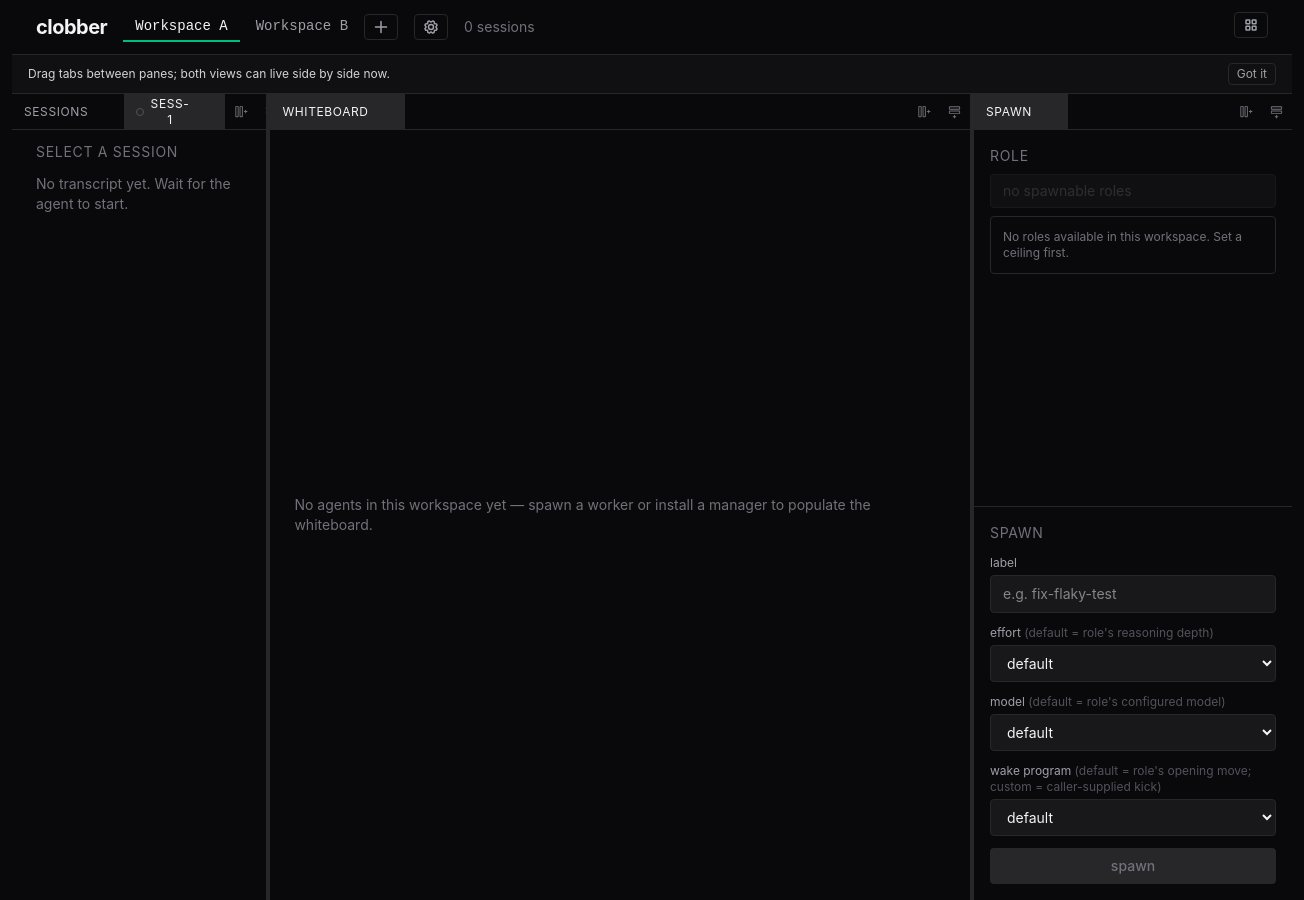
Test: [+] workspace dropdown (#243 dead-end fix) › the create form is the dropdown's sticky bottom item; no standalone create affordance
Expected: the element with placeholder "name" is not shown
Click the button named "Open workspace menu" at x=381, y=27, box [364,14,398,40]
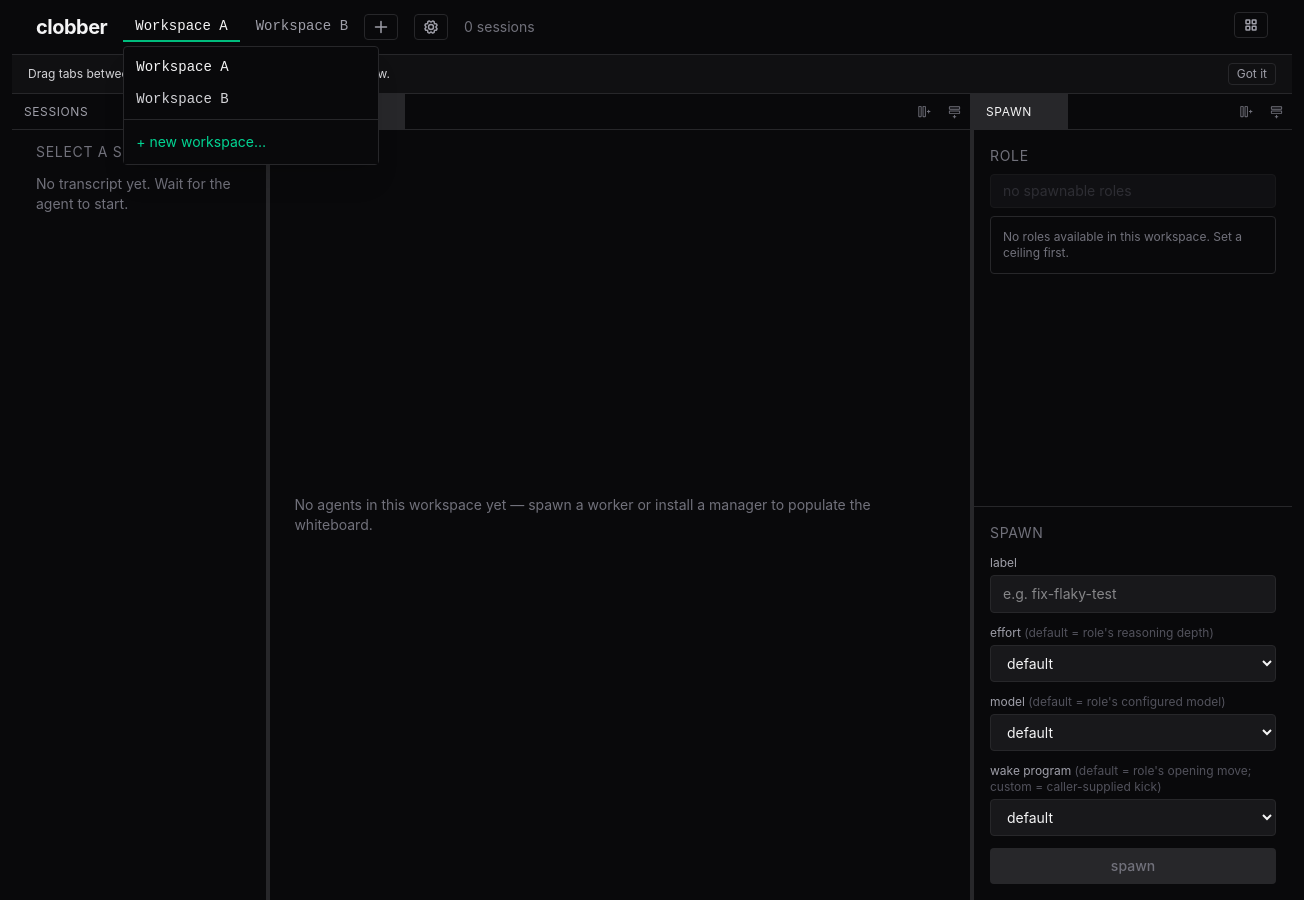
Click the button "+ new workspace…" at x=251, y=142, box [132,128,370,156]
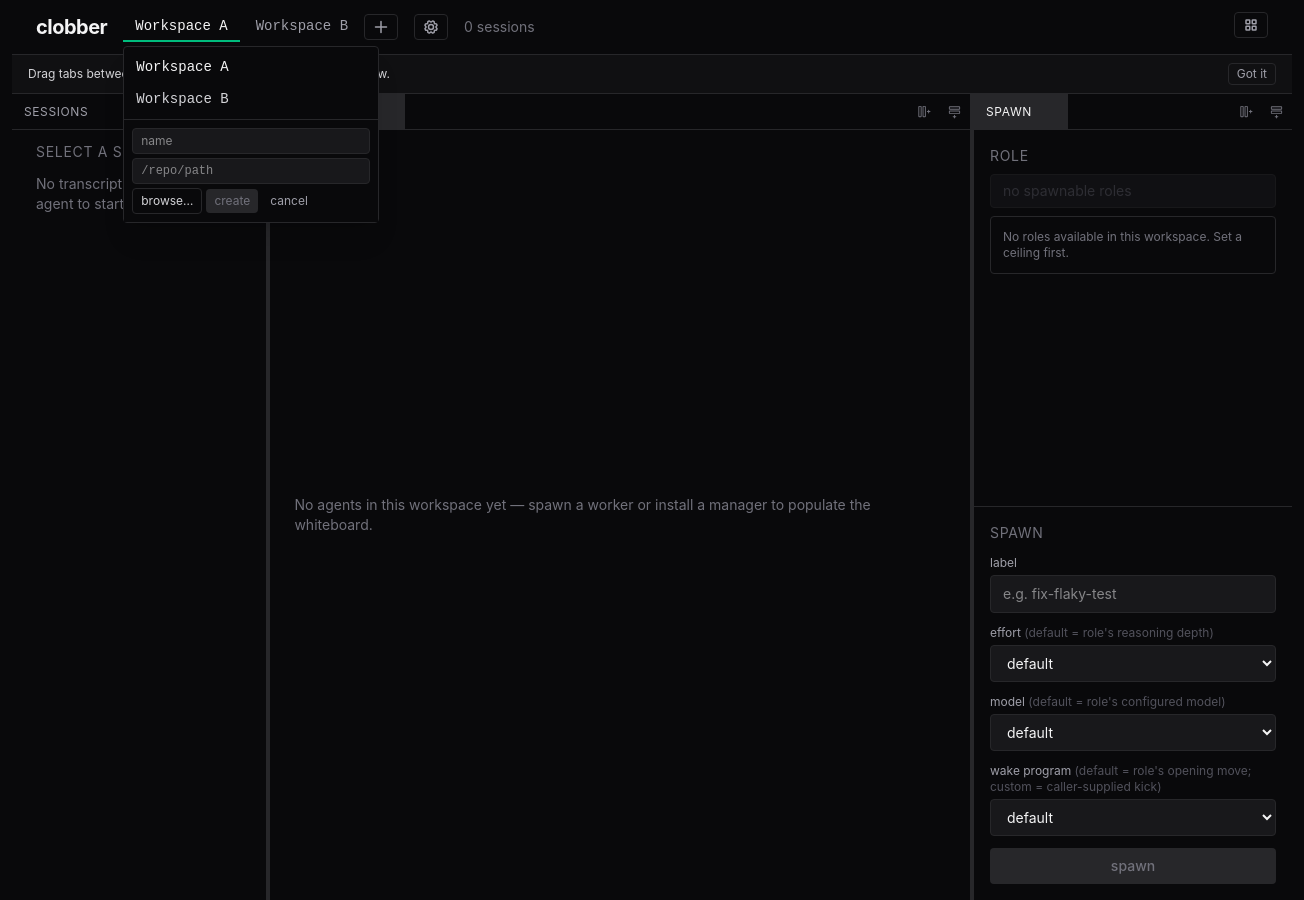
Result: the field with placeholder "name" is shown at [132,128,370,154]
